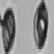correct: (32, 3, 50, 49)
not correct: (0, 4, 17, 54)
